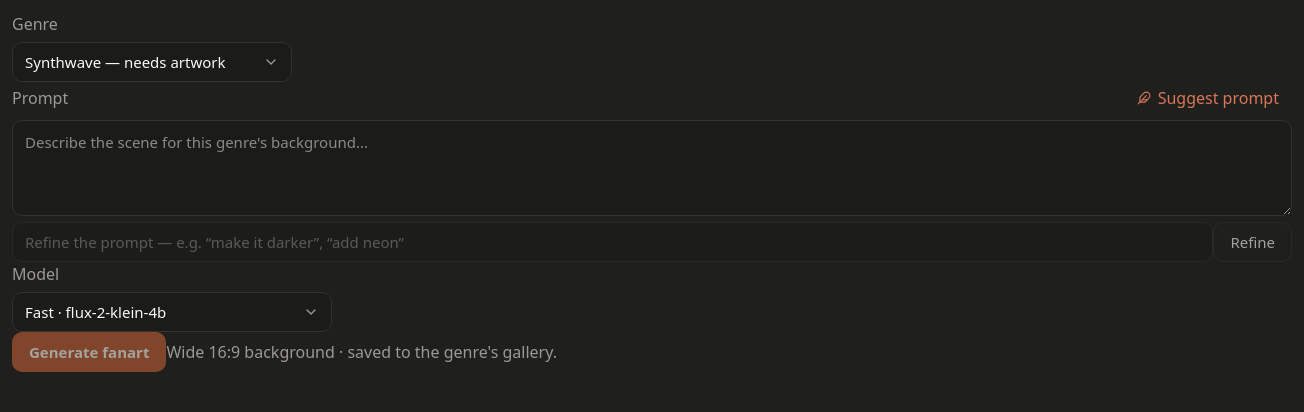
Scenario: GenreFanartMode generation › when the request cannot be started, then it reports it and returns to idle
The image size is (1304, 412).
In the text box named "Fanart prompt": (652, 168) [12, 120, 1292, 216], type "neon skyline"
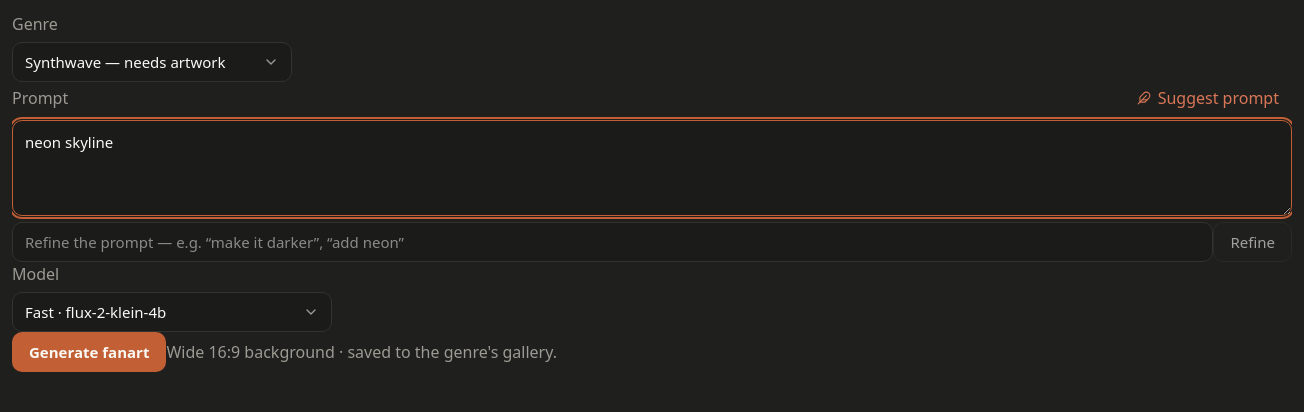
Click the button "Generate fanart": (89, 352) [12, 332, 166, 372]
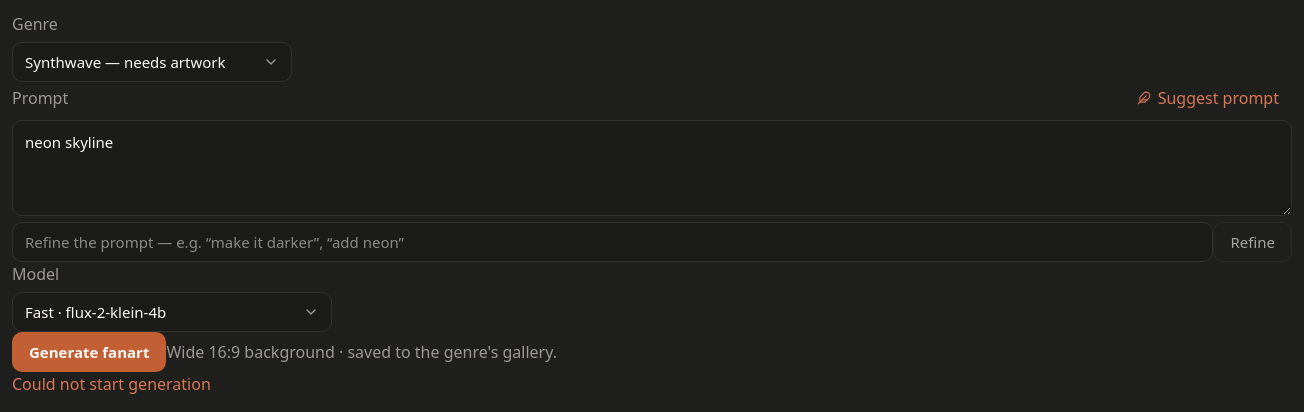
Now the button "Generate fanart" is enabled, box [12, 332, 166, 372]
Now the message reads "Could not start generation", box [12, 373, 211, 395]
